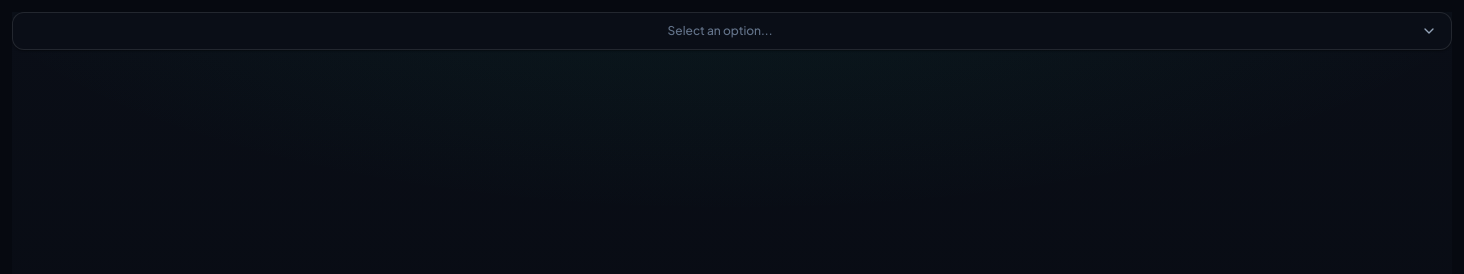
Test: ModernSelect Component › filters options via search input when searchable is true
// Open dropdown
Click the button: {"x": 732, "y": 31} [12,12,1452,50]
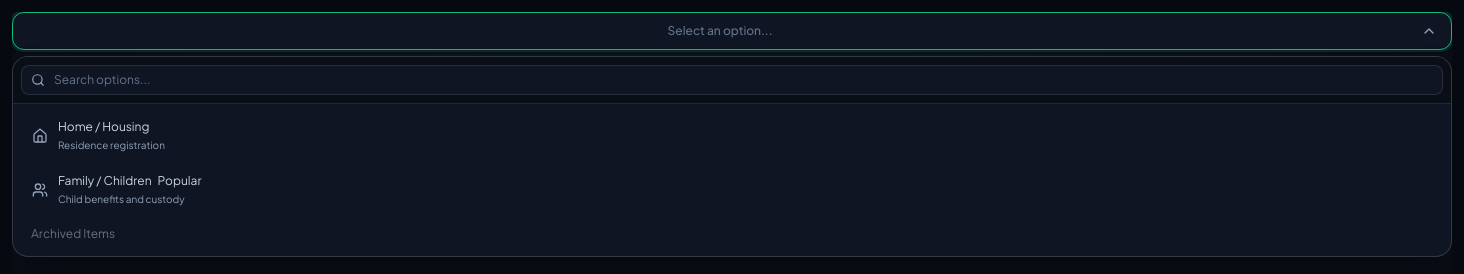
Check: the field with placeholder "Search options..." is shown
// Type query matching only "Family"
In the field with placeholder "Search options...": {"x": 732, "y": 80} [21,65,1443,95], type "Child"
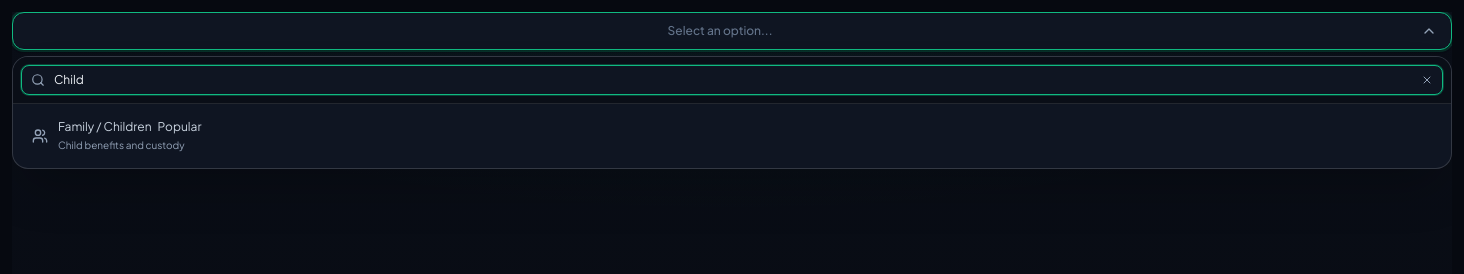
Check: the list shows "Family / Children", box [19,110,1445,162]
Check: the list no longer shows "Home / Housing", box [12,56,1452,169]
